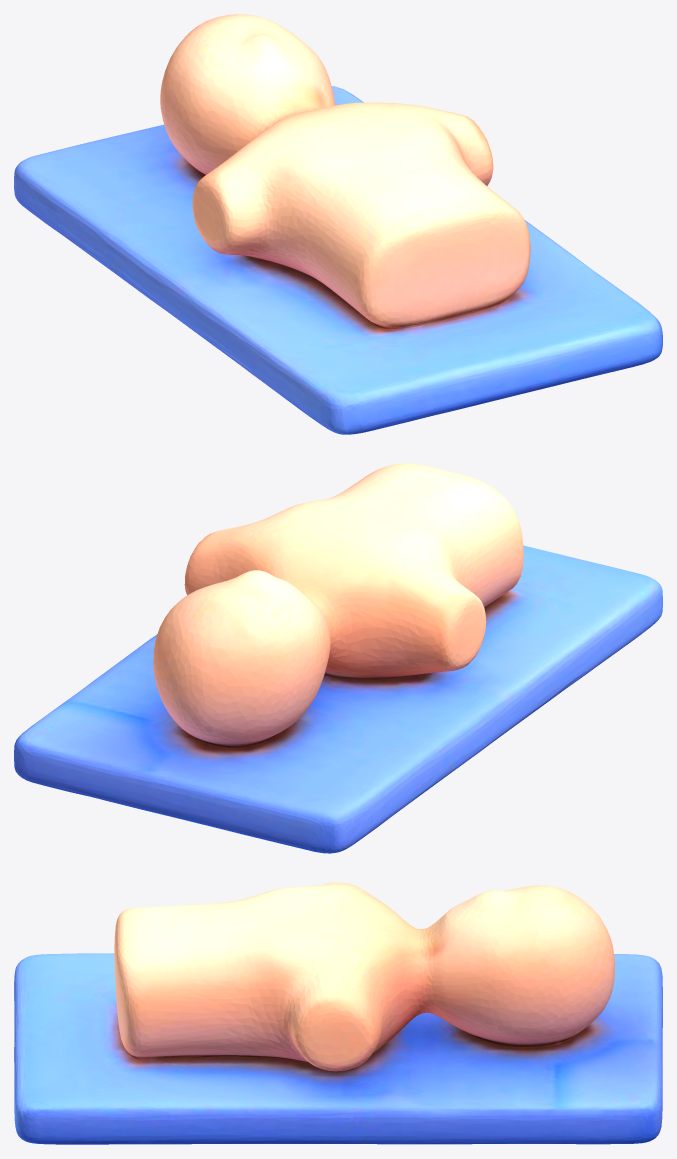
File: dummy_mat.glb
3 views of the same model, one above another, from view 1: azimuth 30°, elevation 25°; view 2: azimuth 150°, elevation 25°; view 3: azimuth 270°, elevation 25° (orthographic). The views are drawn at different scales.
Parts seen in each view (by area): view 1: tripo_mesh_413578fd-e24b-4ddb-af94-aebac90b6e32; view 2: tripo_mesh_413578fd-e24b-4ddb-af94-aebac90b6e32; view 3: tripo_mesh_413578fd-e24b-4ddb-af94-aebac90b6e32.
Part boxes in pixels (x1=…): tripo_mesh_413578fd-e24b-4ddb-af94-aebac90b6e32: x1=14, y1=14, x2=662, y2=434; tripo_mesh_413578fd-e24b-4ddb-af94-aebac90b6e32: x1=14, y1=463, x2=662, y2=853; tripo_mesh_413578fd-e24b-4ddb-af94-aebac90b6e32: x1=14, y1=882, x2=662, y2=1144.
Size of the model in its own units: 1.88 by 1 by 3.23.
Materials: 1 (1 with a texture image).
